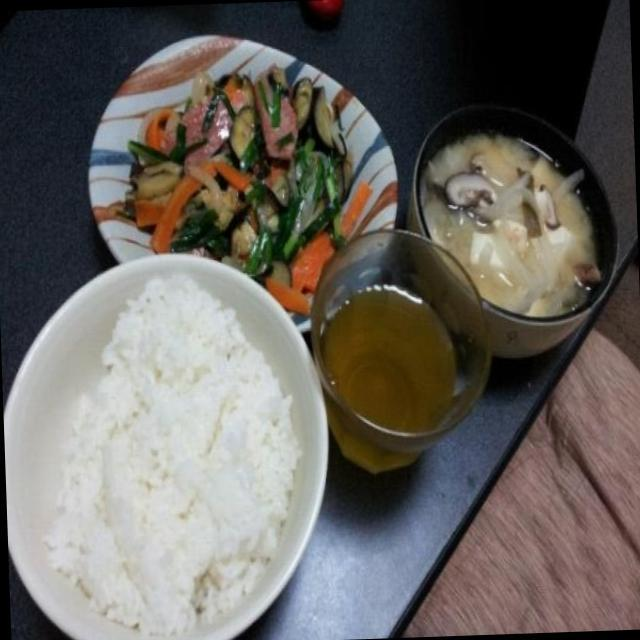Rice: (28, 263, 315, 640)
